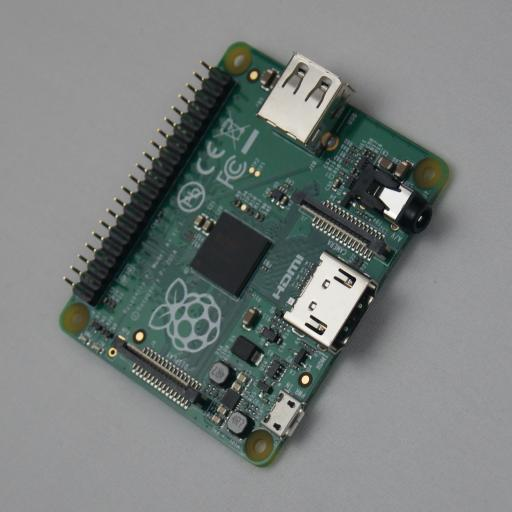Raspberry Pi A-: (59, 42, 454, 468)
